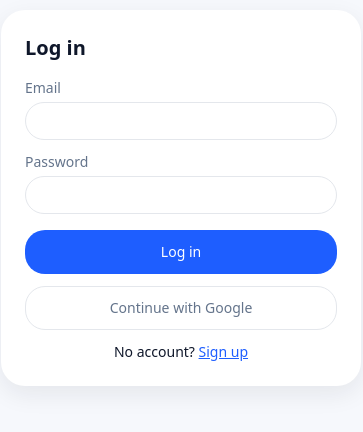
Scenario: Login page › shows error message when login fails
This screenshot has width=363, height=432.
Type "bad@example.com" into the field labelled "Email".
click(181, 121); type("bad@example.com")  # box top-left (25, 102), bottom-right (337, 140)
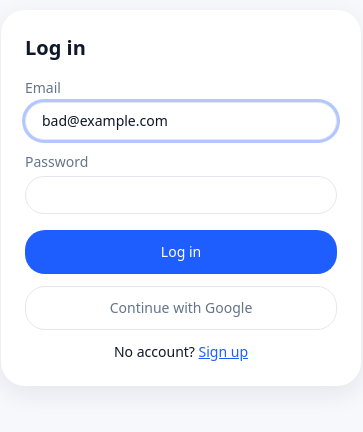
Type "wrong" into the password field labelled "Password".
click(181, 195); type("wrong")  # box top-left (25, 176), bottom-right (337, 214)
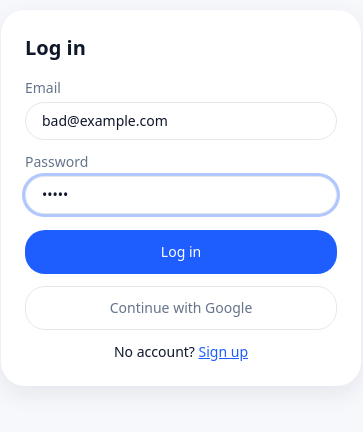
Click the button "Log in".
click(181, 252)  # box top-left (25, 230), bottom-right (337, 274)
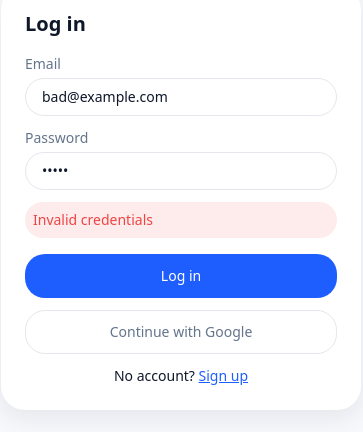
Expected: the text "Invalid credentials" is shown, top-left (25, 202), bottom-right (337, 238)
